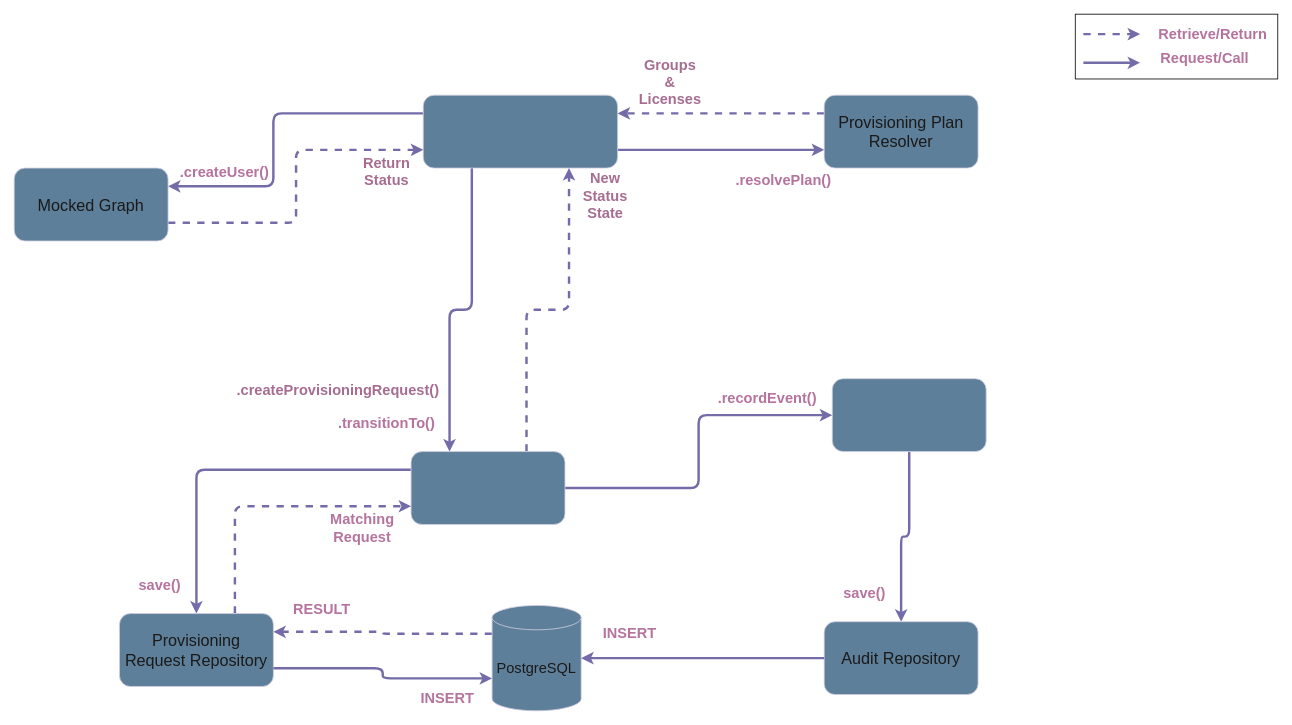
This 1292x725 diagram has some shape labels left out. The shapes that lost their labels are listed below. From the top down, each one's centre as x and y in pixels, then its label:
(x=520, y=131): Orchestrator
(x=908, y=415): Audit Event Service
(x=487, y=487): Provisioning Request Service
